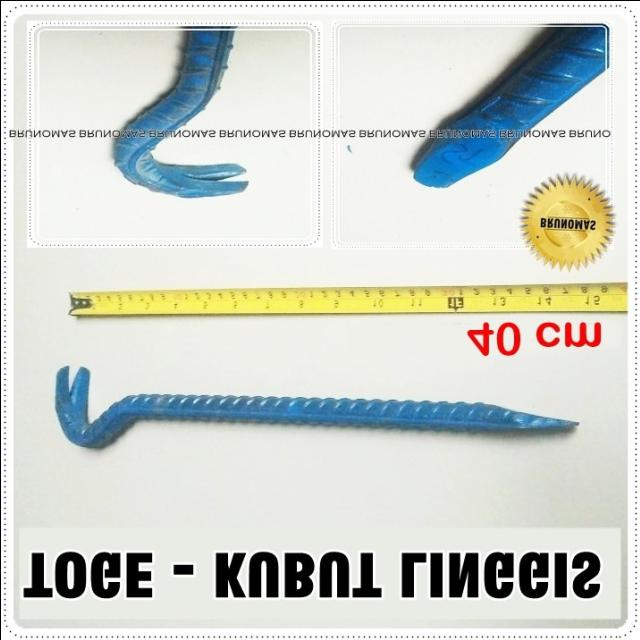Linggis: (54, 367, 578, 455)
